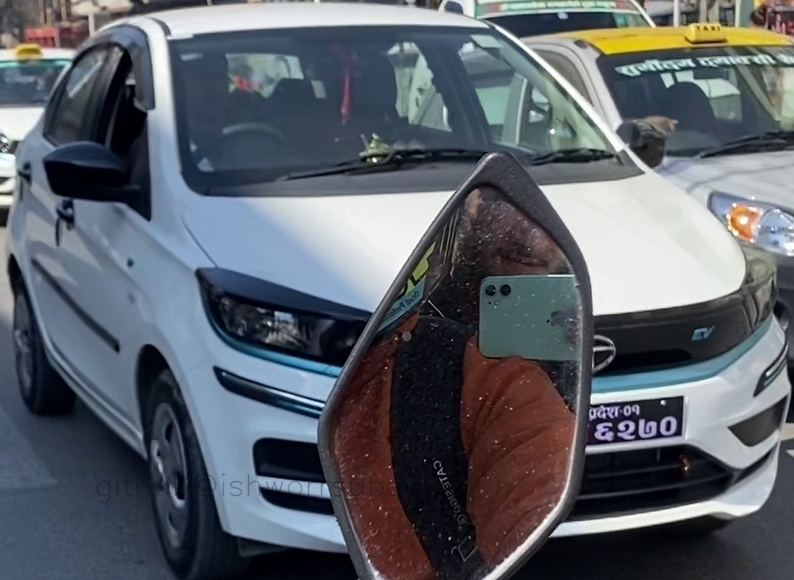license_plate: (589, 396, 685, 446)
